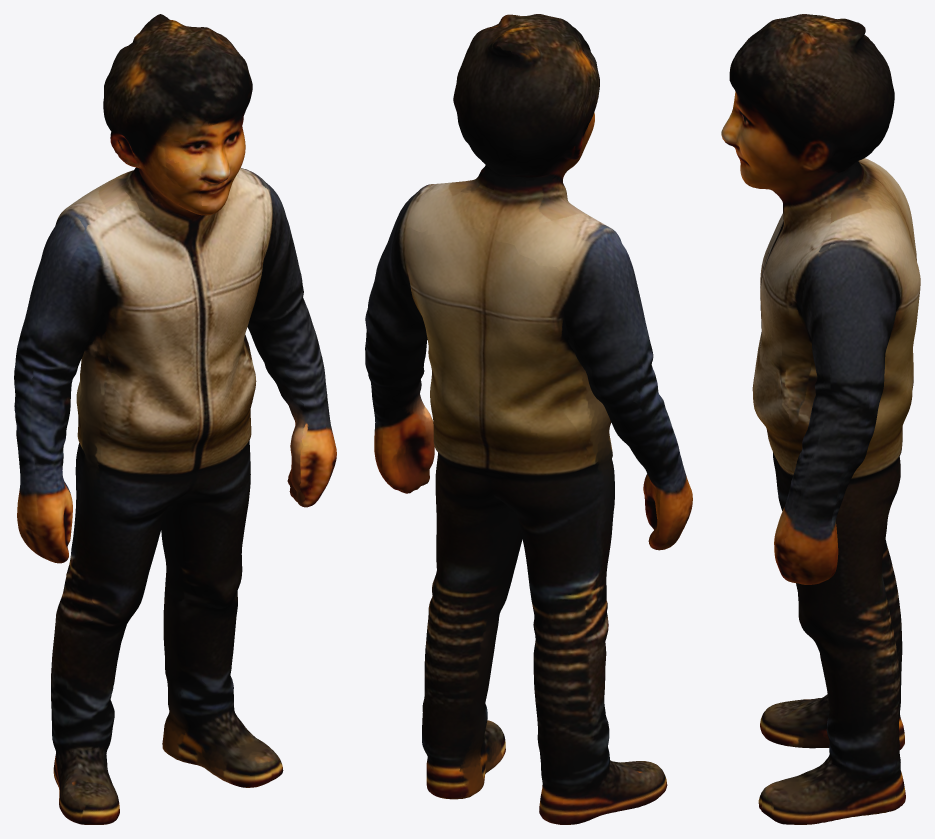
Rendered from textured_ThangLe.glb.
3 views of the same model, side by side, from view 1: azimuth 30°, elevation 25°; view 2: azimuth 150°, elevation 25°; view 3: azimuth 270°, elevation 25° (orthographic).
Parts seen in each view (by area): view 1: tmpox8kkori.ply; view 2: tmpox8kkori.ply; view 3: tmpox8kkori.ply.
Boxes of the visible parts, x1,y1,x2,y2 form: tmpox8kkori.ply: [14, 14, 336, 824]; tmpox8kkori.ply: [365, 14, 692, 824]; tmpox8kkori.ply: [721, 14, 920, 824].
Bounding box in the file's own units: 0.8467 × 1.99 × 0.4716.
Materials: 1 (1 with a texture image).
